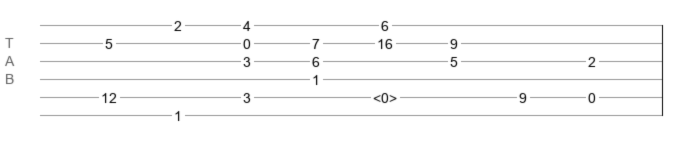0: (243, 36, 251, 46), (588, 90, 596, 100)
1: (174, 108, 182, 118), (312, 72, 320, 82)
12: (101, 90, 117, 100)
16: (377, 36, 393, 46)
2: (174, 18, 182, 28), (588, 54, 596, 64)
3: (243, 90, 251, 100), (243, 54, 251, 64)
4: (243, 18, 251, 28)
5: (105, 36, 113, 46), (450, 54, 458, 64)
6: (312, 54, 320, 64), (381, 18, 389, 28)
7: (312, 36, 320, 46)
9: (450, 36, 458, 46), (519, 90, 527, 100)
harmonic: (373, 90, 397, 100)
